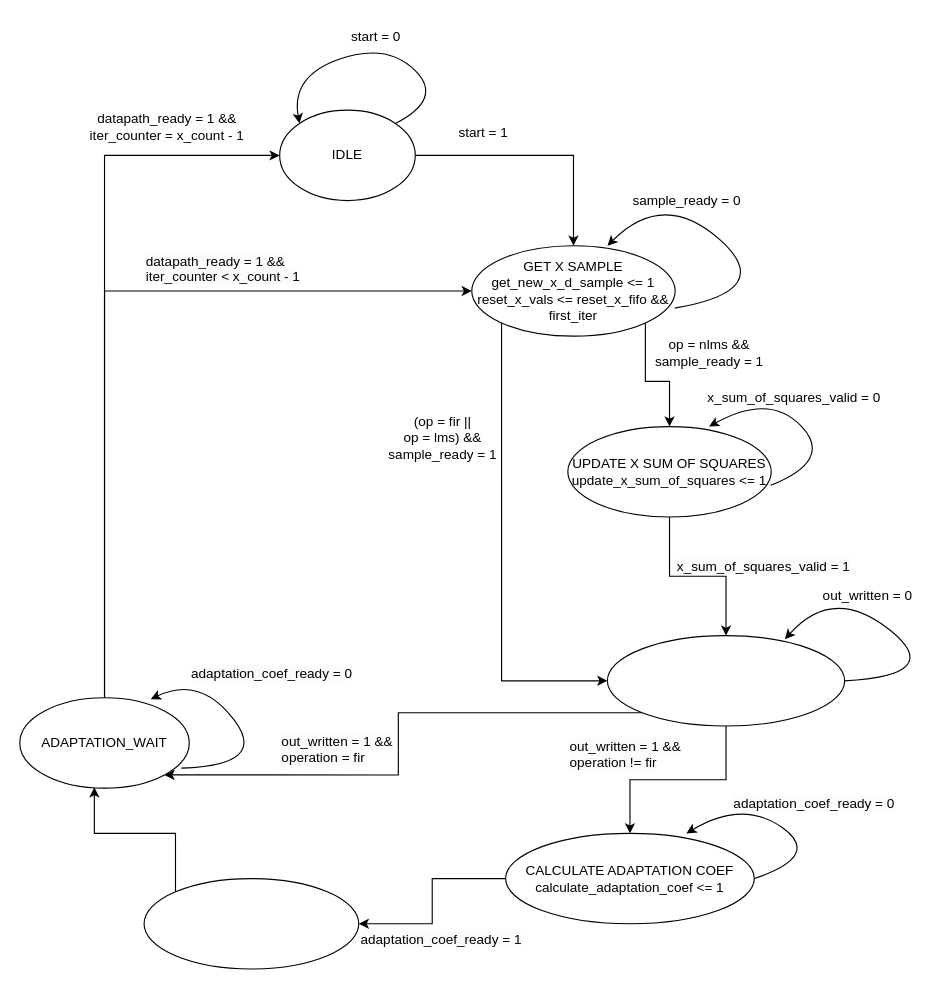
Some shapes in this 944 by 989 pixel diagram are drawn without their labels. Here are the shapes that lost their labels. From the top down, the centre of each, then its label:
At [725,680]: "START FIR FILTRATION start_fir_filtration <= 1 start_outputting_data <= 1".
At [251,923]: "START ADAPTATION start_filter_adapation <= 1 start_outputting_data <= 1".
